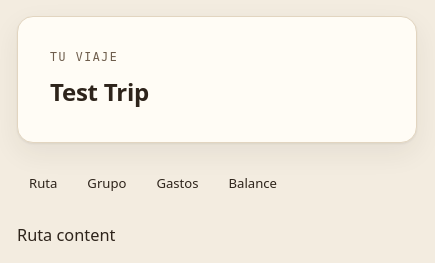
Test case: TripShell › switches to Gastos tab when clicked
What coordinates should you click on to do the following:
click the button "Gastos"
I would click on:
 (177, 183)
Its box is [144,161,210,205].
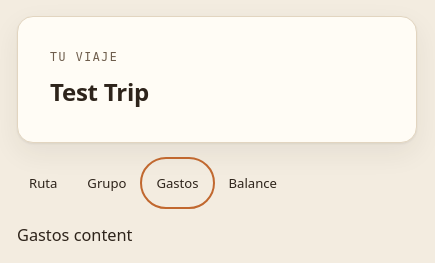
Now the text "Ruta content" is gone
Now the text "Gastos content" is shown, box [17,224,132,246]
